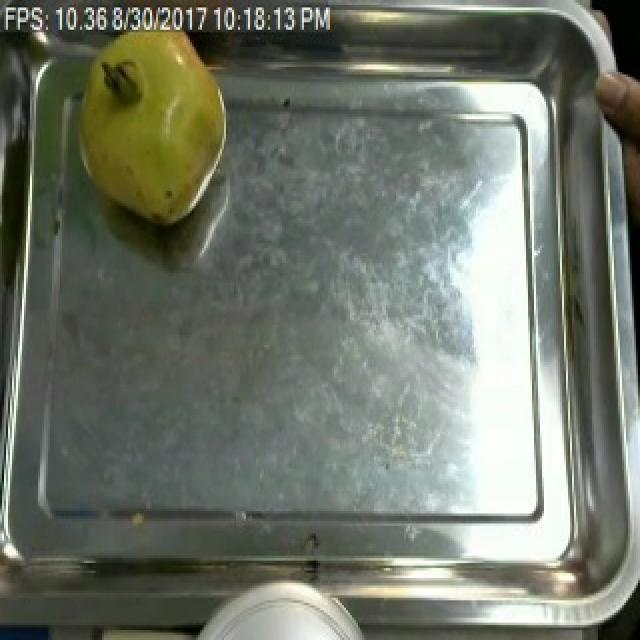fruit: (64, 10, 238, 236)
